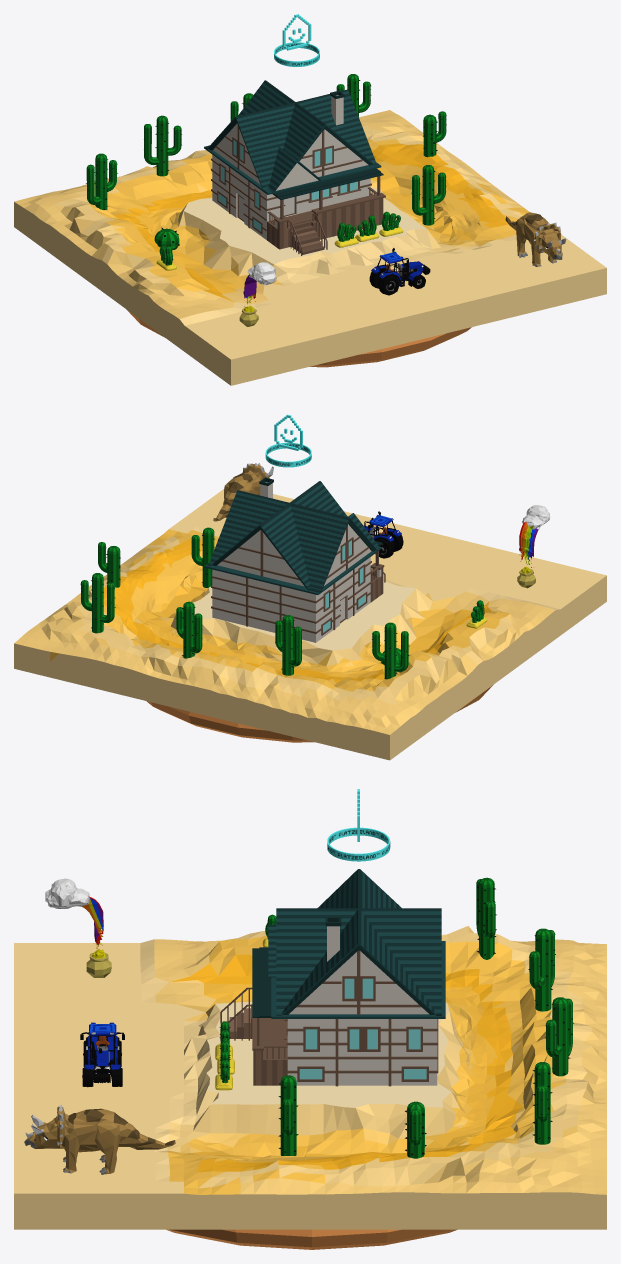
The picture shows the model from 3 angles, top to bottom: view 1: azimuth 30°, elevation 25°; view 2: azimuth 150°, elevation 25°; view 3: azimuth 270°, elevation 25°; orthographic projection. The views are drawn at different scales.
Visible parts, largest first — view 1: Cube.001, Cube.793, ANIMAL_Triceratops, VEHICLES_TRACTOR, UNDERGROUND_PIZZA, Cylinder.044, Cylinder.037, Cylinder.045, OBJRANDOM_RAINBOW, TYPE_PREMIUM, Cylinder.038, Cylinder.042; view 2: Cube.001, Cube.793, UNDERGROUND_PIZZA, OBJRANDOM_RAINBOW, Cylinder.045, Cylinder.042, Cylinder.044, ANIMAL_Triceratops, Cylinder.043, VEHICLES_TRACTOR, TYPE_PREMIUM, Cylinder.037 (+1 smaller); view 3: Cube.001, Cube.793, ANIMAL_Triceratops, UNDERGROUND_PIZZA, VEHICLES_TRACTOR, OBJRANDOM_RAINBOW, Cylinder.044, Cylinder.043, Cylinder.045, Cylinder.042, Cylinder.037, TYPE_PREMIUM (+1 smaller).
Part boxes in pixels (box(x1,y1,x2,y2)): Cube.001: box(14, 110, 606, 385); Cube.793: box(204, 80, 385, 255); ANIMAL_Triceratops: box(505, 212, 566, 266); VEHICLES_TRACTOR: box(369, 248, 430, 295); UNDERGROUND_PIZZA: box(126, 309, 471, 367); Cylinder.044: box(144, 115, 181, 176); Cylinder.037: box(411, 165, 446, 225); Cylinder.045: box(86, 153, 117, 209); OBJRANDOM_RAINBOW: box(239, 262, 276, 326); TYPE_PREMIUM: box(274, 14, 319, 66); Cylinder.038: box(423, 111, 446, 157); Cylinder.042: box(336, 74, 371, 116); Cube.001: box(14, 489, 606, 760); Cube.793: box(204, 477, 385, 642); UNDERGROUND_PIZZA: box(146, 685, 492, 742); OBJRANDOM_RAINBOW: box(517, 505, 550, 588); Cylinder.045: box(372, 622, 409, 679); Cylinder.042: box(80, 573, 115, 633); Cylinder.044: box(275, 615, 301, 675); ANIMAL_Triceratops: box(213, 463, 273, 521); Cylinder.043: box(176, 601, 202, 658); VEHICLES_TRACTOR: box(364, 511, 403, 558); TYPE_PREMIUM: box(265, 414, 311, 467); Cylinder.037: box(191, 527, 218, 587); Cube.001: box(14, 926, 606, 1229); Cube.793: box(220, 869, 445, 1086); ANIMAL_Triceratops: box(24, 1104, 175, 1174); UNDERGROUND_PIZZA: box(166, 1229, 457, 1249); VEHICLES_TRACTOR: box(80, 1022, 124, 1087); OBJRANDOM_RAINBOW: box(45, 878, 111, 977); Cylinder.044: box(528, 928, 555, 1011); Cylinder.043: box(545, 997, 573, 1076); Cylinder.045: box(476, 877, 496, 959); Cylinder.042: box(532, 1062, 552, 1144); Cylinder.037: box(278, 1075, 298, 1155); TYPE_PREMIUM: box(327, 789, 390, 861).
Bounding box in the file's own units: 4002 × 2649 × 4001.
38 materials, 4 textured.
